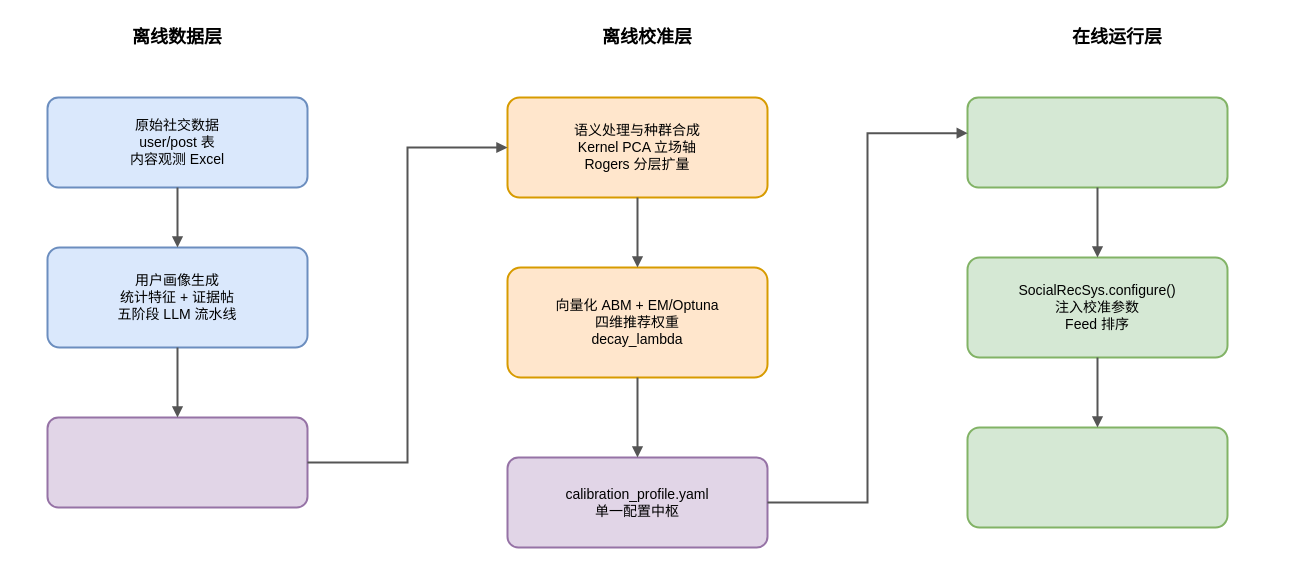
Some shapes in this 1294 by 565 pixel diagram are drawn without their labels. Here are the shapes that lost their labels. From the top down, the centre of each, then its label:
At (1097,142): "main.py 双进程启动 Backend + Agent".
At (177,462): "portraits/*.json influence_tier profile_mode".
At (1097,477): "Agent 模拟运行 发帖/评论/点赞/转发 记忆与时间推进".
